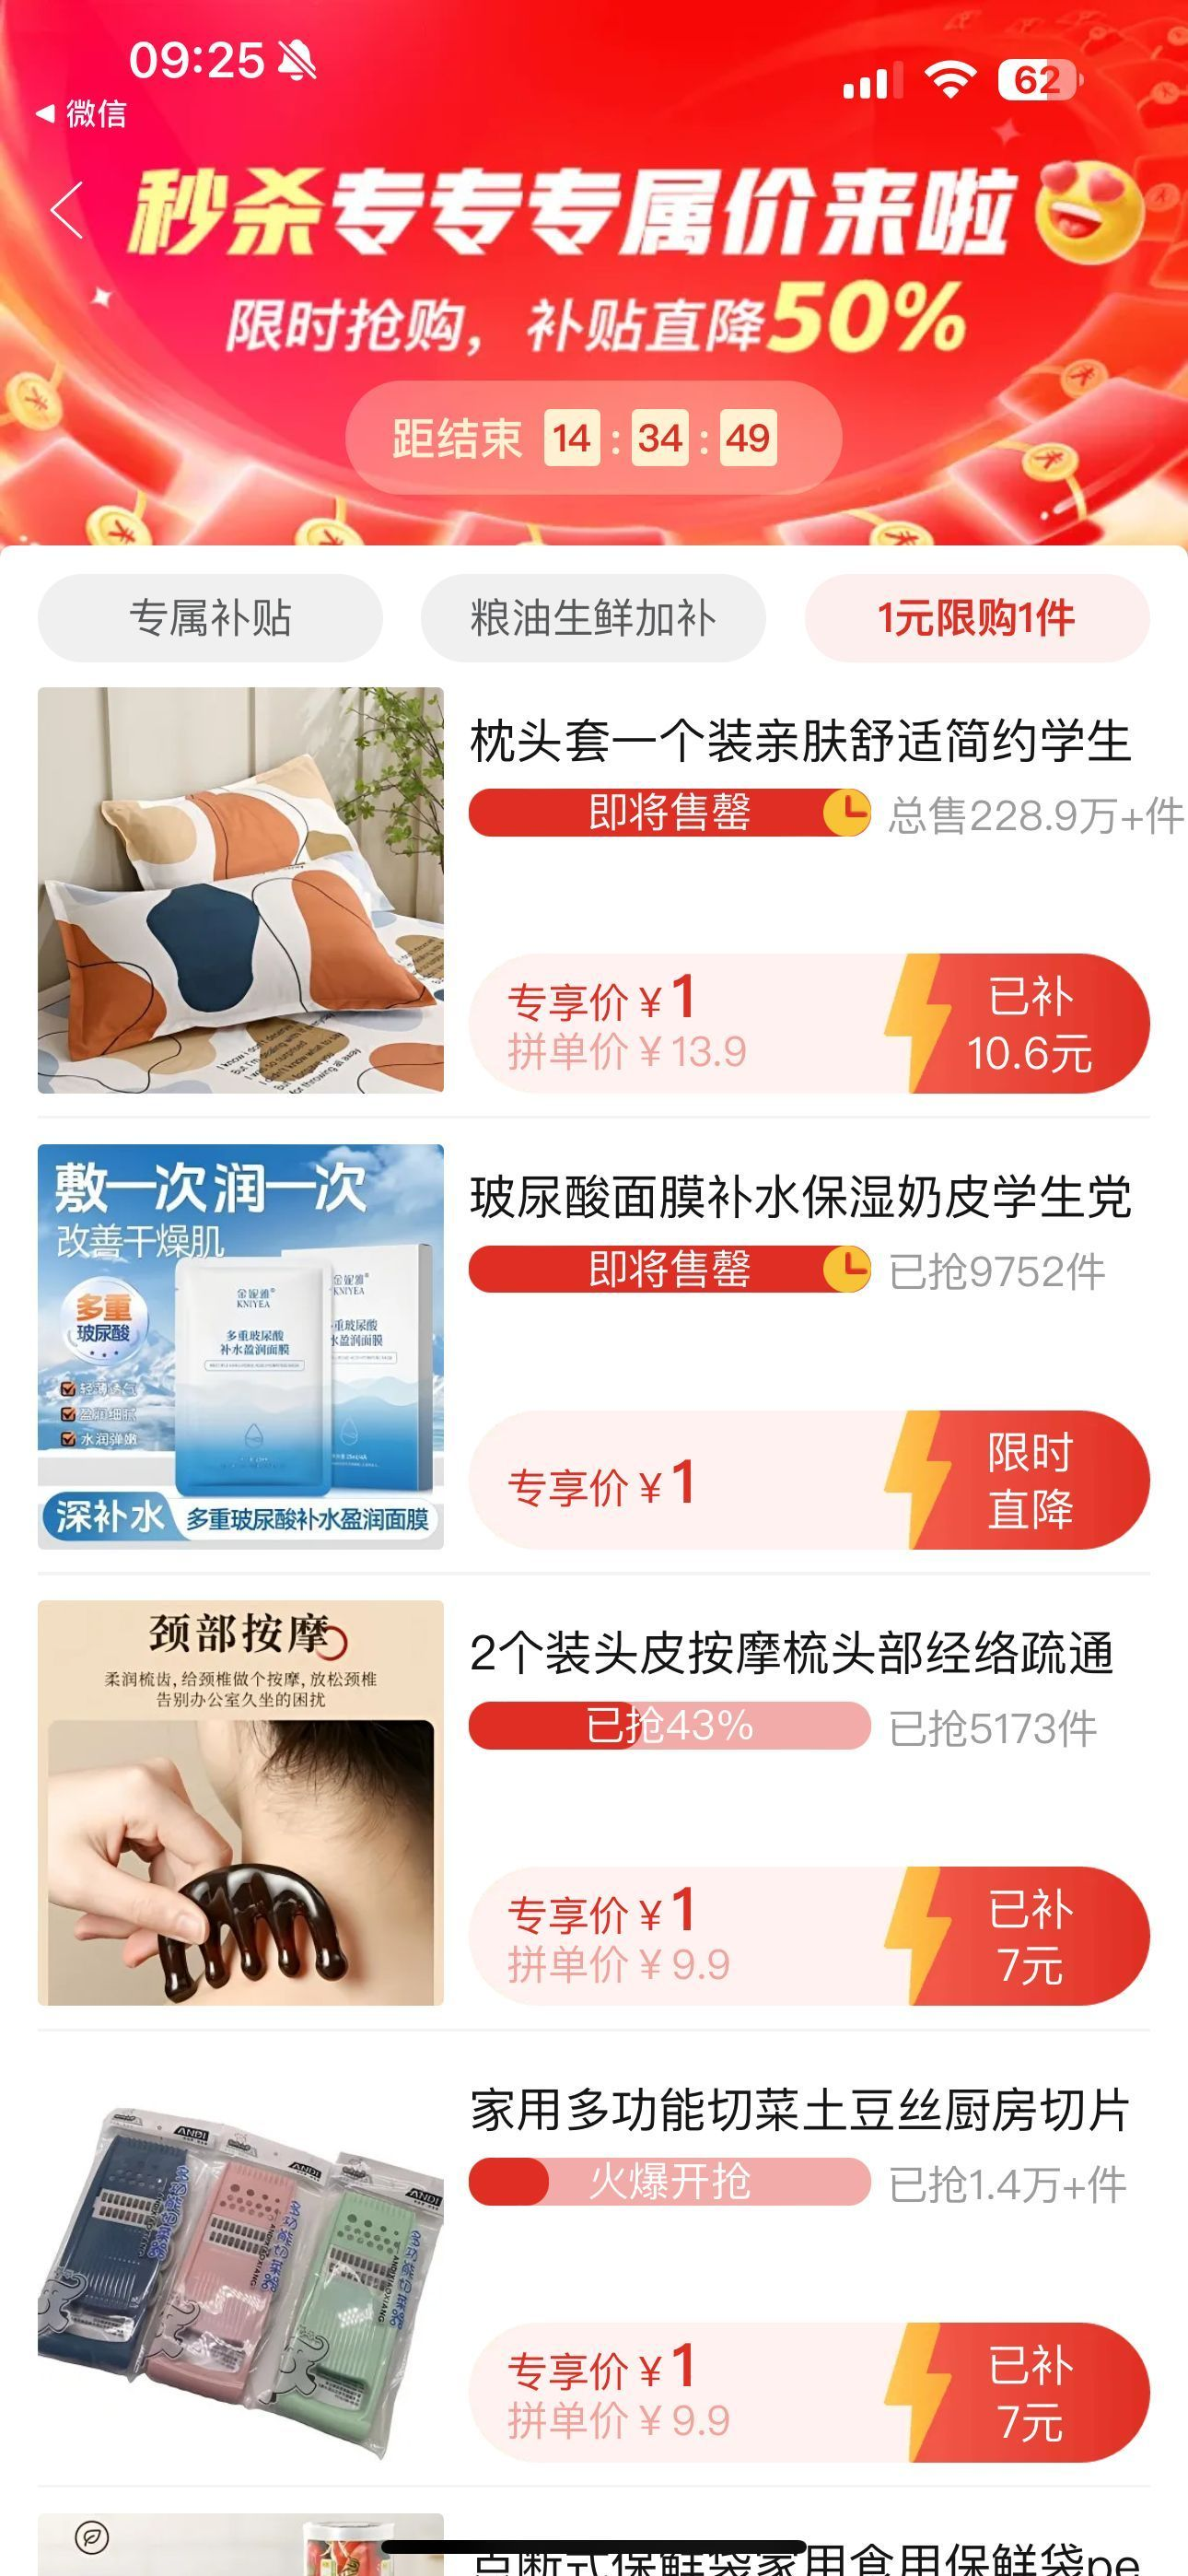item: (3, 1595, 1188, 2062), (5, 664, 1188, 1124), (2, 1132, 1183, 1592), (12, 2067, 1185, 2514)
op_bar: (3, 143, 1178, 296)
